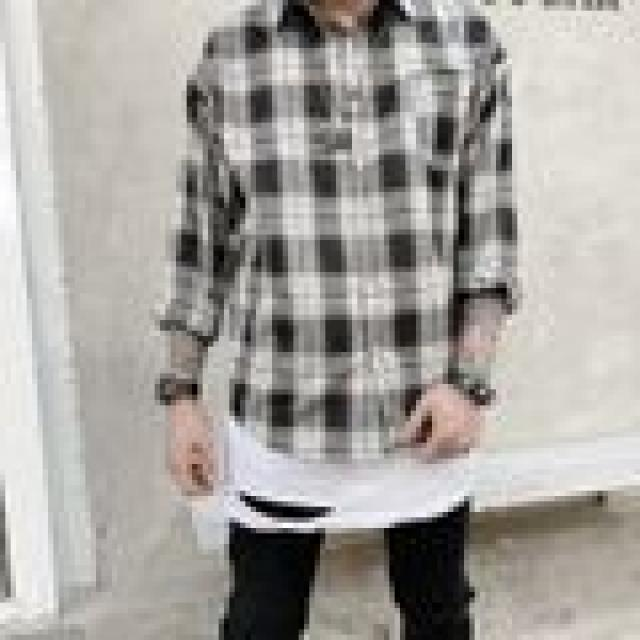plaid: (163, 17, 519, 438)
